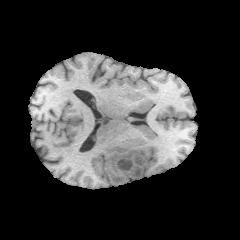glioma: (104, 146, 146, 183)
